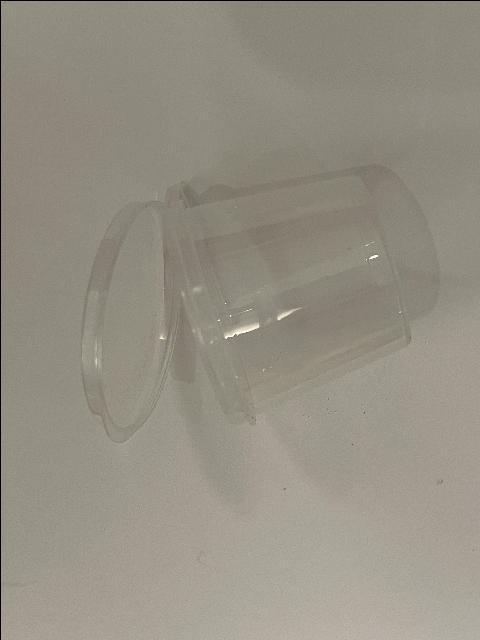plasticcontainer: (78, 172, 412, 444)
